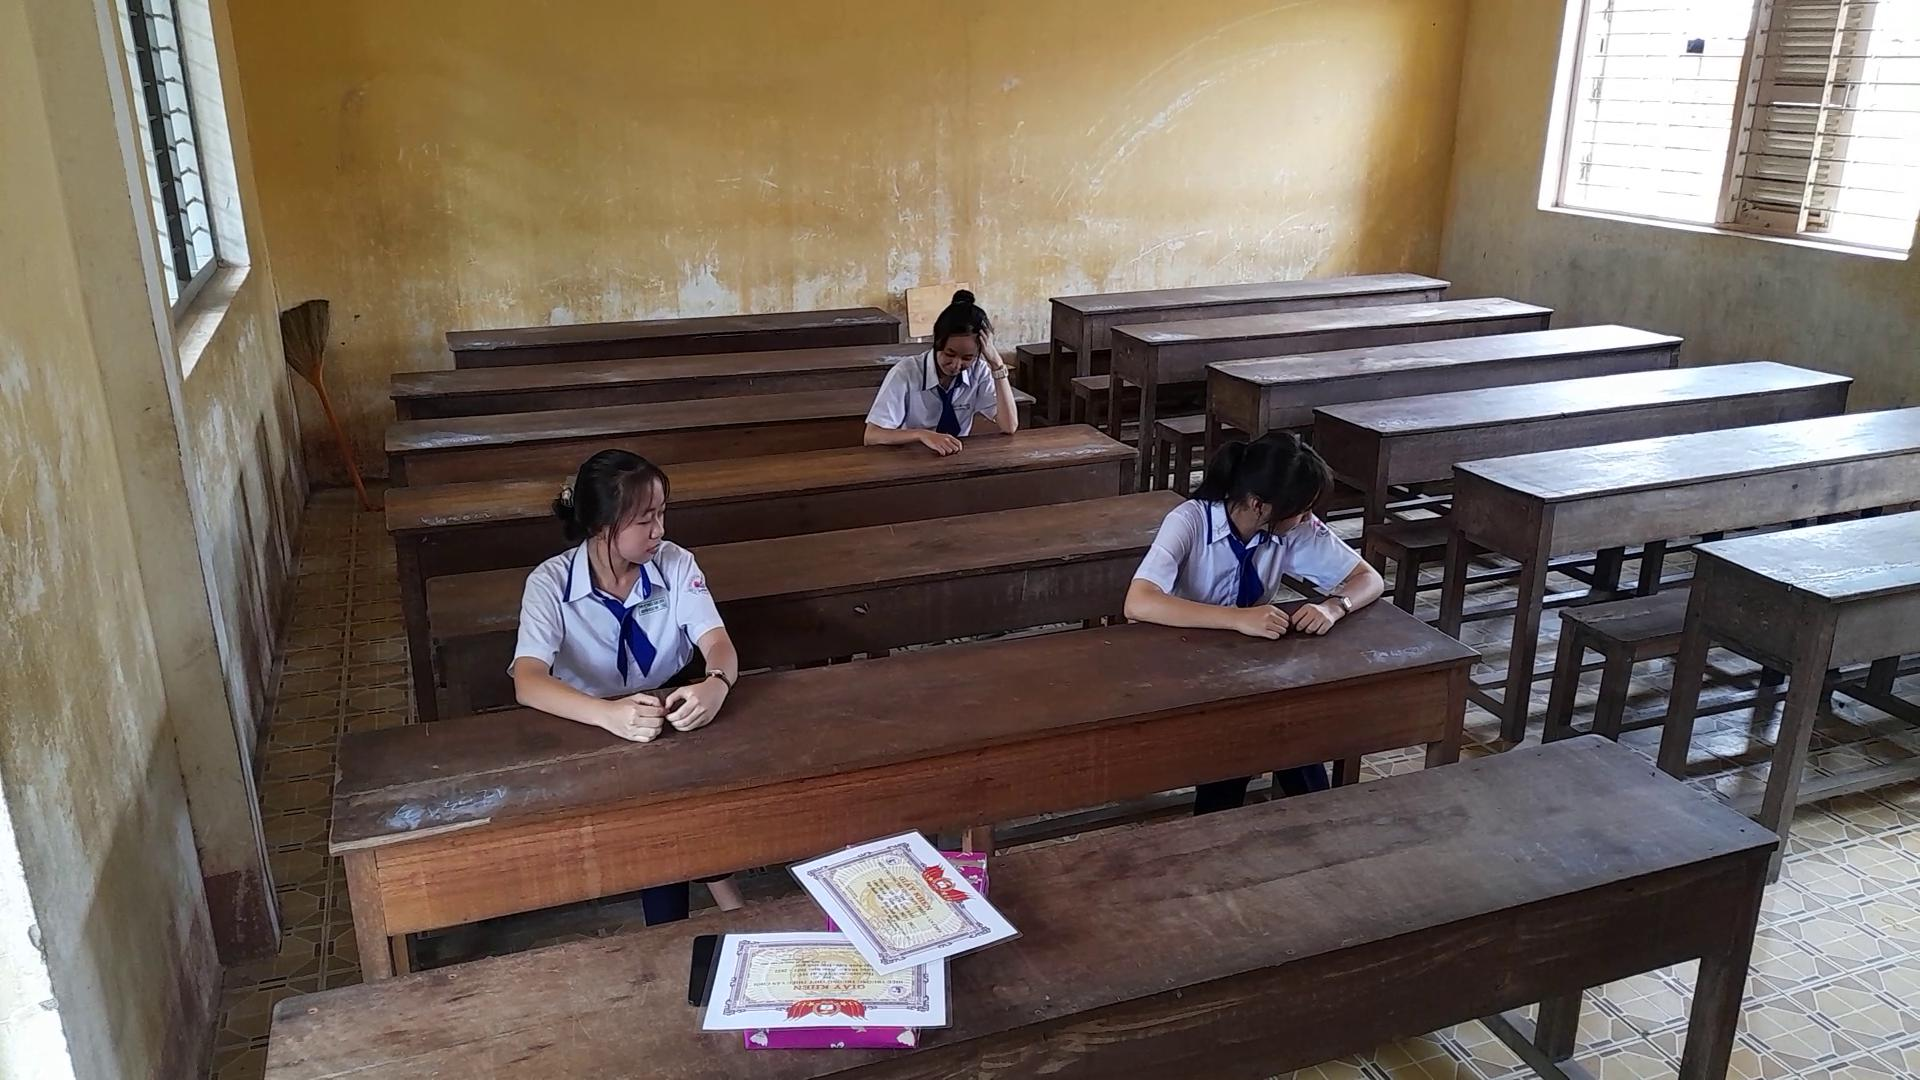Bend Over The Desk: (919, 280, 993, 382)
Look Around: (534, 440, 682, 582), (1193, 419, 1335, 547)
Wave: (978, 319, 1023, 440)
